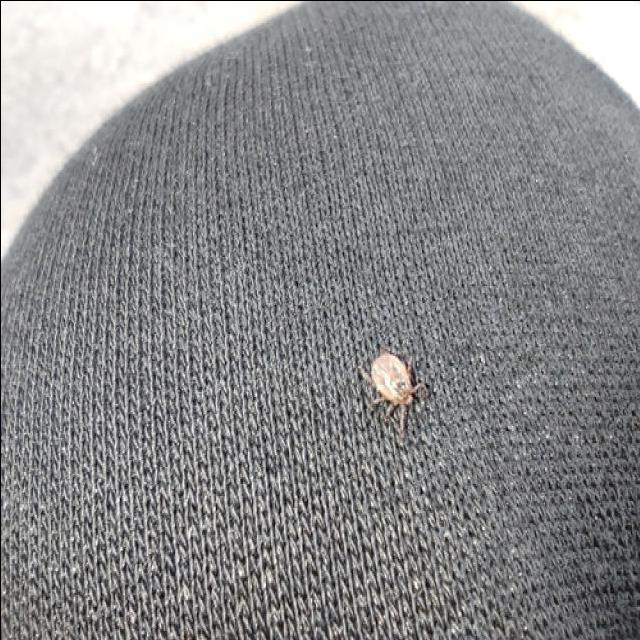Dermacentor Reticulatus-F: (364, 350, 431, 437)
